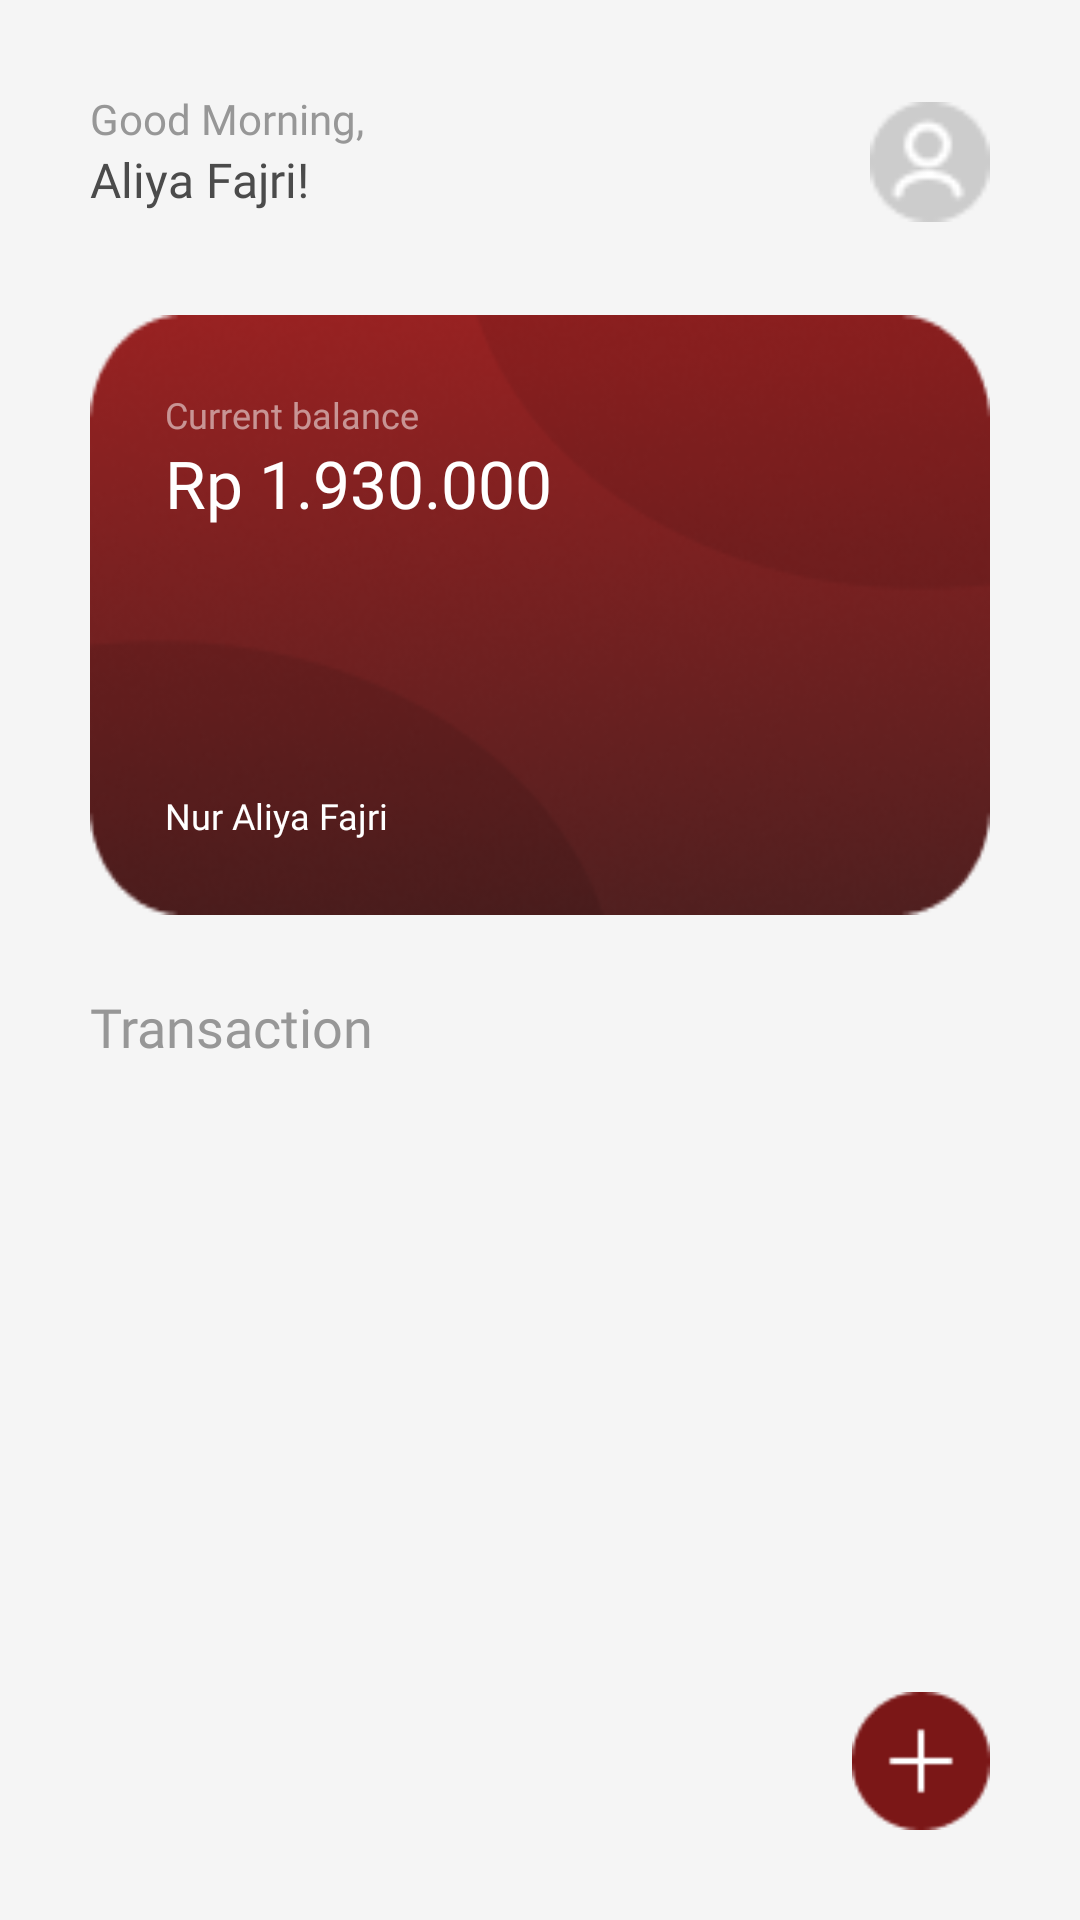

Icons on this 1080*1920 Android screen, each with the point to tap as (x=x, y=y):
profile: (x=930, y=162)
